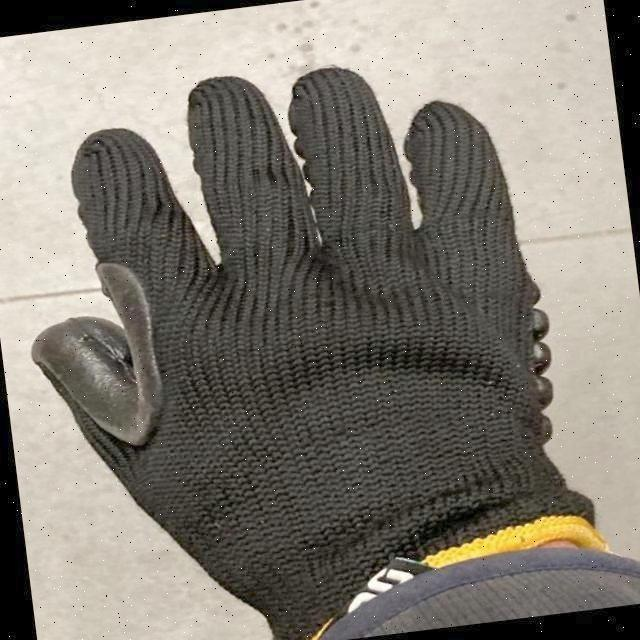Guantes: (30, 64, 614, 636)
